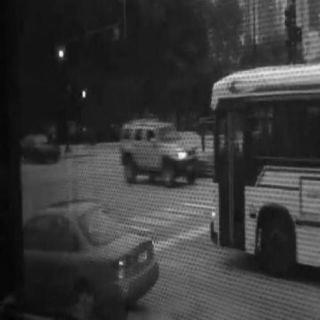other: (169, 138, 192, 172), (52, 35, 72, 67)
